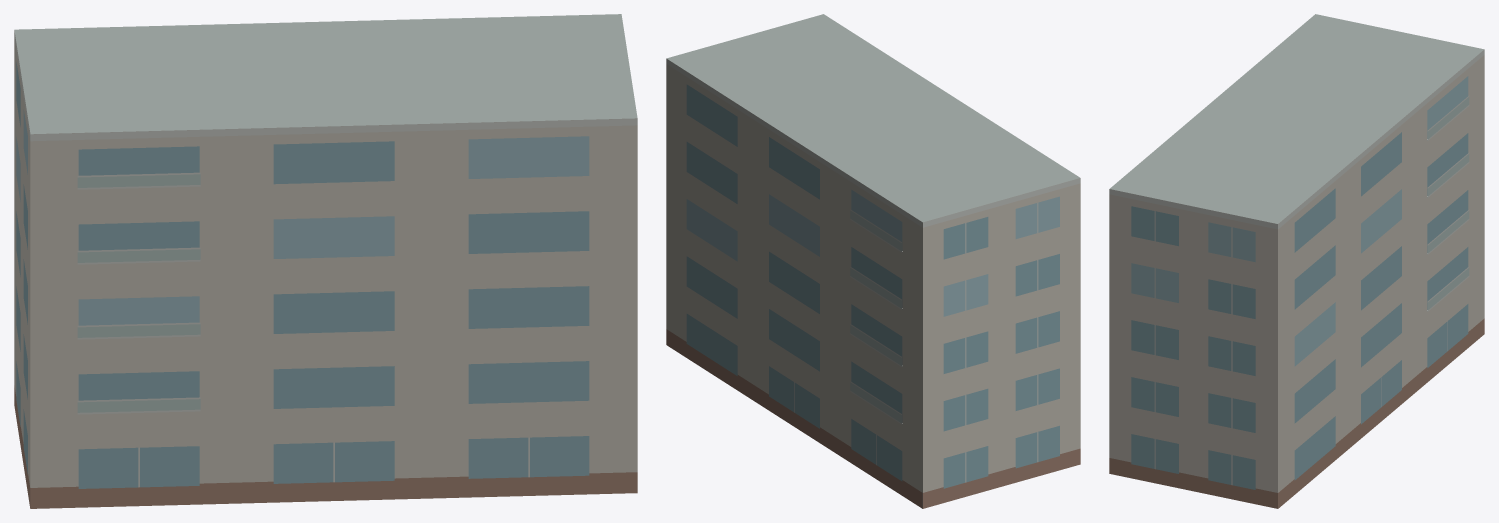
The model's file is survey-upis-32885865.glb.
3 views of the same model, side by side, from view 1: azimuth 30°, elevation 25°; view 2: azimuth 150°, elevation 25°; view 3: azimuth 270°, elevation 25° (orthographic). The views are drawn at different scales.
Parts seen in each view (by area): view 1: survey-upis-32885865.tmp; view 2: survey-upis-32885865.tmp; view 3: survey-upis-32885865.tmp.
Boxes of the visible parts, x1,y1,x2,y2 form: survey-upis-32885865.tmp: (14,14,637,508); survey-upis-32885865.tmp: (666,14,1080,508); survey-upis-32885865.tmp: (1109,14,1484,508).
Bounding box in the file's own units: 20.58 × 13 × 15.53.
